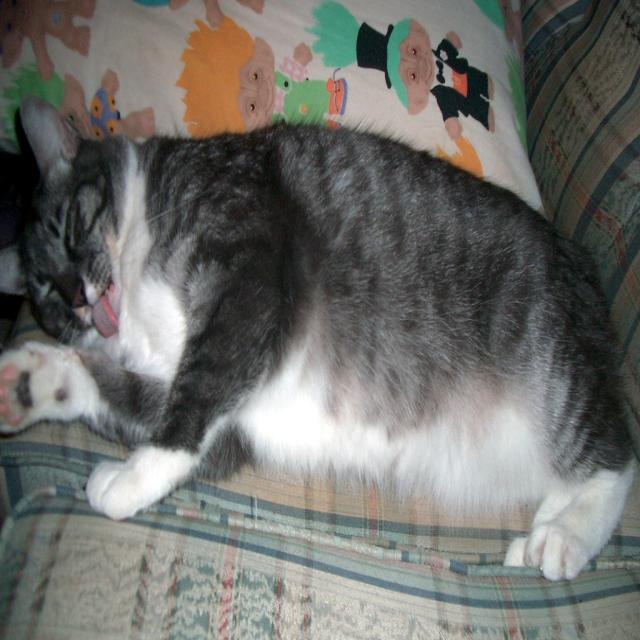Cat: (0, 91, 639, 581)
